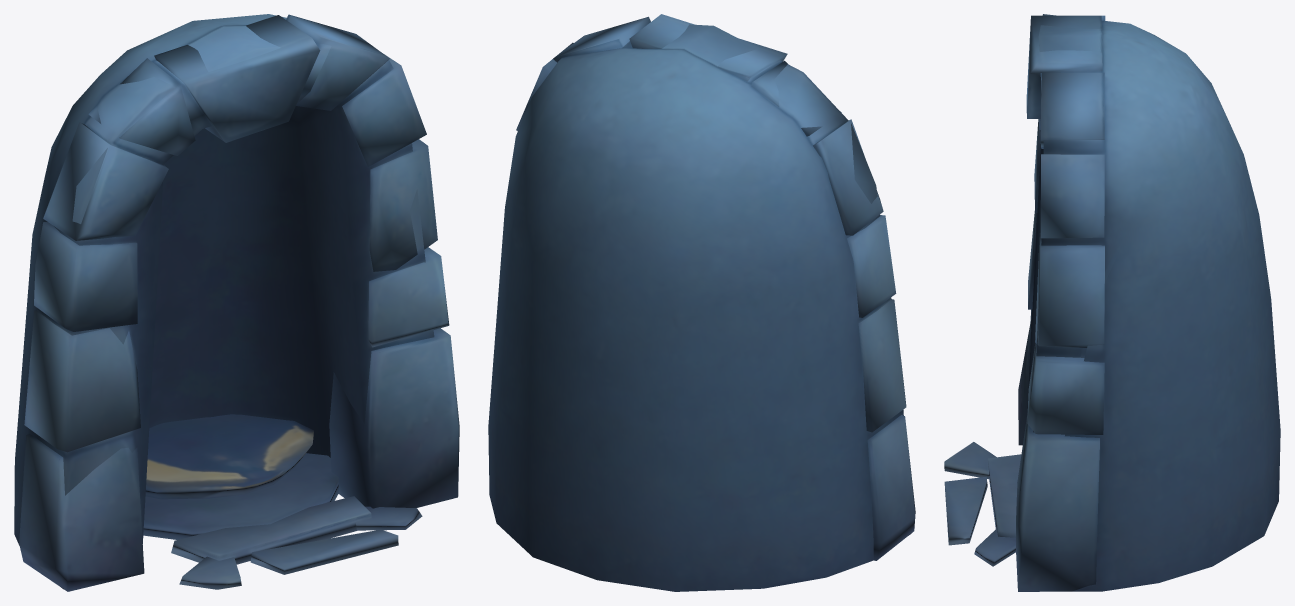
Rendered from Meshy_AI_model_20261128_texture.fbx.
3 renders of one model, left to right at view 1: azimuth 30°, elevation 25°; view 2: azimuth 150°, elevation 25°; view 3: azimuth 270°, elevation 25°, orthographic. The views are drawn at different scales.
Parts seen in each view (by area): view 1: geometry_0; view 2: geometry_0; view 3: geometry_0.
Boxes of the visible parts, left/top/right/bottom form: geometry_0: left=14, top=14, right=459, bottom=591; geometry_0: left=488, top=14, right=915, bottom=591; geometry_0: left=944, top=14, right=1280, bottom=591.
Bounding box in the file's own units: 86.45 × 100 × 65.34.
1 material, 1 textured.
